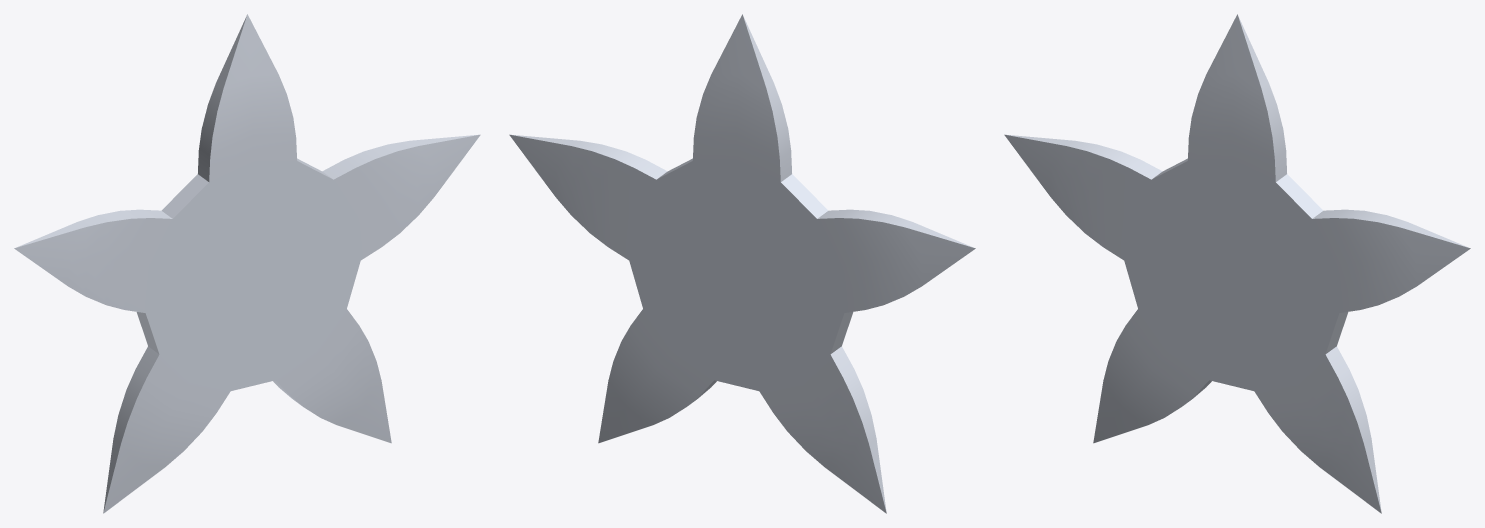
The model's file is Saw A.fbx.
3 renders of one model, left to right at view 1: azimuth 30°, elevation 25°; view 2: azimuth 150°, elevation 25°; view 3: azimuth 330°, elevation 25°, orthographic.
Visible parts, largest first — view 1: Saw A; view 2: Saw A; view 3: Saw A.
Boxes of the visible parts, box(x1,y1,x2,y2) form: Saw A: box(14, 14, 480, 513); Saw A: box(509, 14, 975, 513); Saw A: box(1004, 14, 1470, 513).
Bounding box in the file's own units: 130 × 123 × 5.46.
